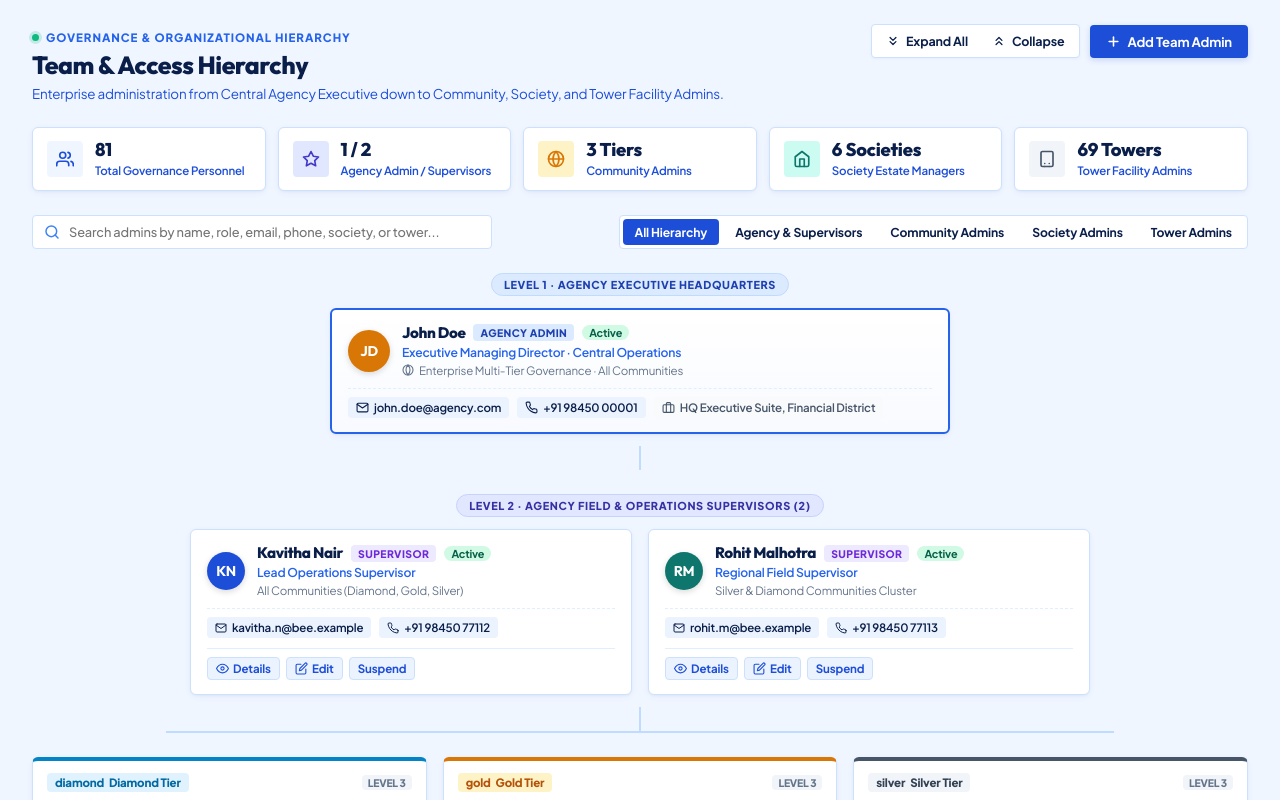
Test: Team & Access Hierarchy Page › opens inspector modal when Details button is clicked
Click the button "Details" below "kavitha.n@bee.example" at (243, 669), box [207,657,280,680]
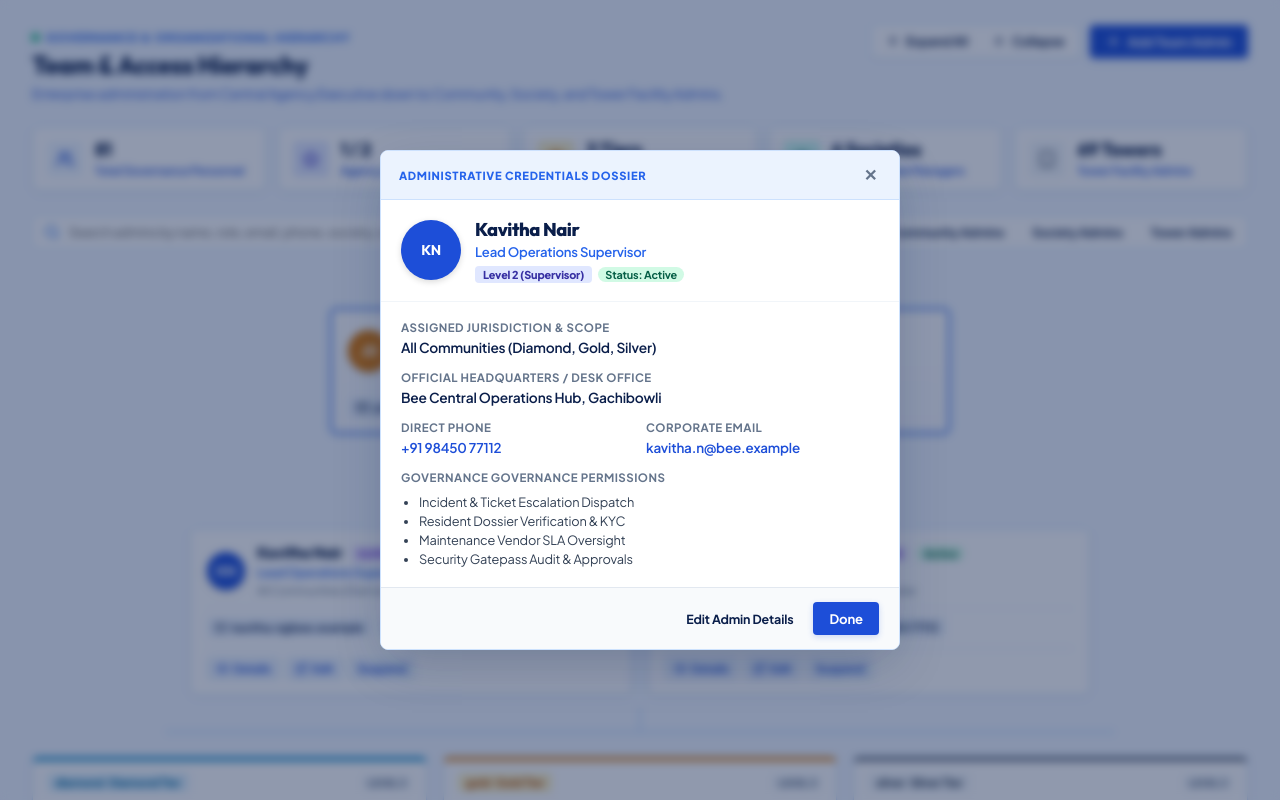
Now the text "ADMINISTRATIVE CREDENTIALS DOSSIER" is shown, box [399,168,646,182]
Now the list item "Incident & Ticket Escalation Dispatch" is shown, box [419,494,634,510]
